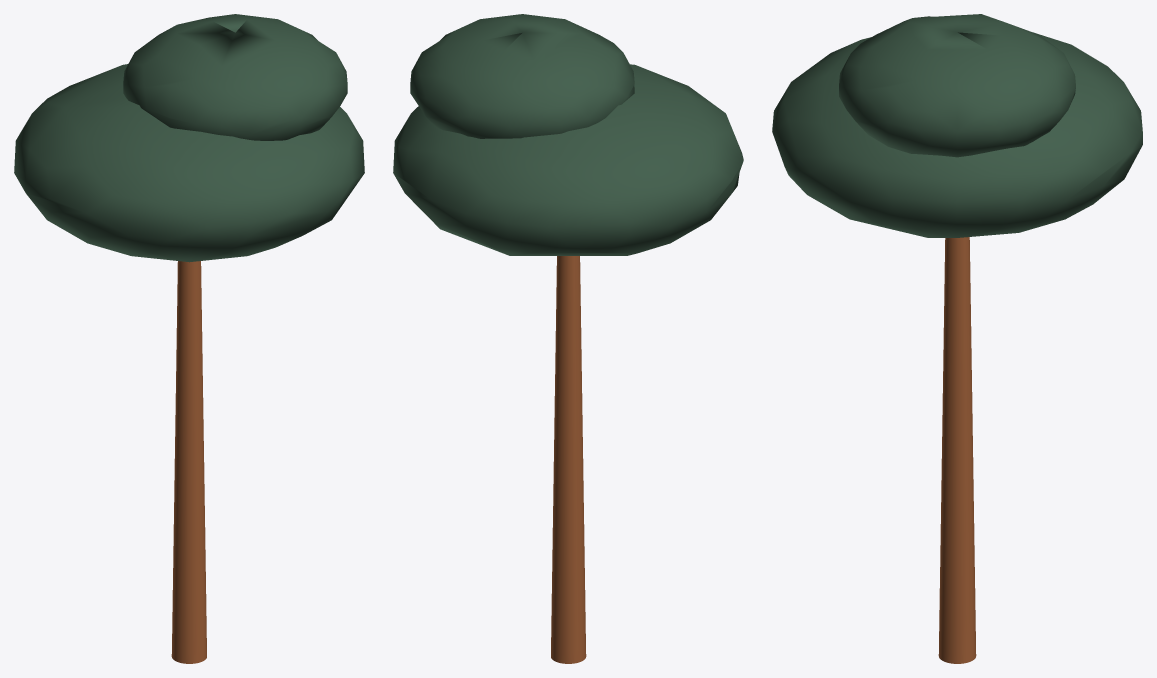
Rendered from e08-scots-pine.lod1.glb.
3 renders of one model, left to right at view 1: azimuth 30°, elevation 25°; view 2: azimuth 150°, elevation 25°; view 3: azimuth 270°, elevation 25°, orthographic. The views are drawn at different scales.
Visible parts, largest first — view 1: part1, part2, part0; view 2: part1, part2, part0; view 3: part1, part2, part0.
Part boxes in pixels (x1,y1,x2,y2): part1: (14, 64, 364, 262); part2: (123, 14, 347, 140); part0: (171, 261, 206, 663); part1: (393, 64, 743, 255); part2: (410, 14, 634, 138); part0: (551, 256, 586, 663); part1: (772, 32, 1142, 237); part2: (839, 14, 1075, 157); part0: (938, 237, 976, 663).
Bounding box in the file's own units: 9903 × 19100 × 9913.
